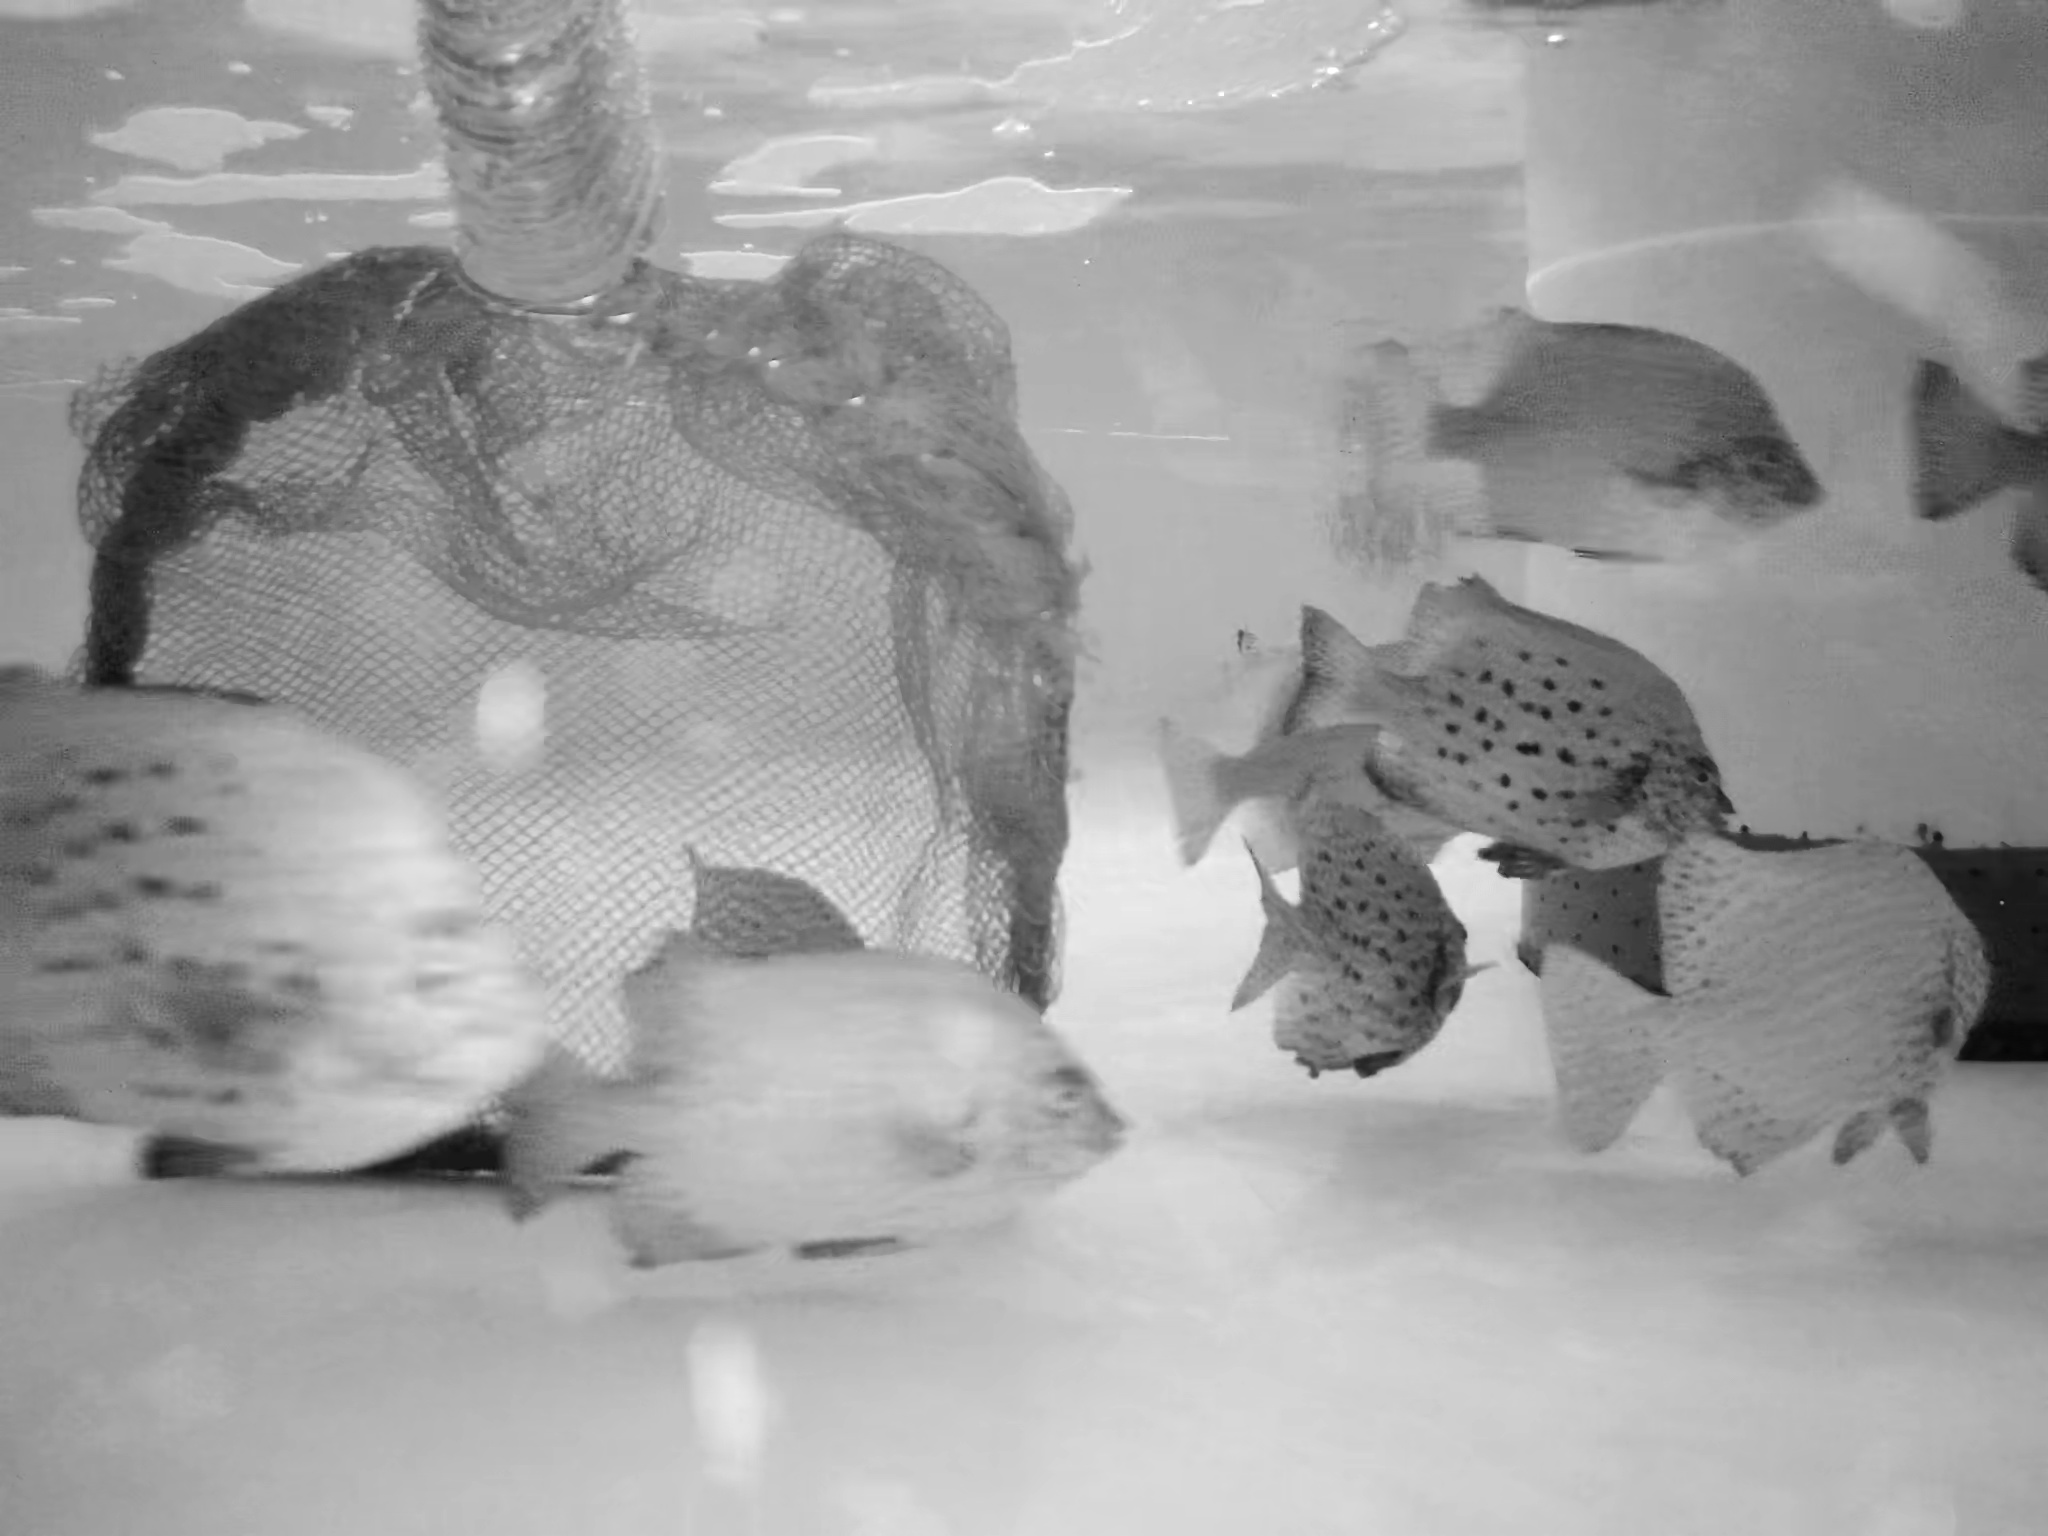fish: (2, 649, 548, 1199), (502, 928, 1127, 1275), (1551, 828, 1983, 1186), (1355, 300, 1838, 594), (1297, 581, 1724, 868), (664, 850, 897, 1157), (1140, 676, 1496, 865), (1232, 810, 1467, 1084), (1230, 618, 1480, 858), (1887, 340, 2048, 565)
